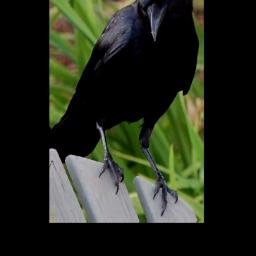Crow: (51, 0, 201, 220)
